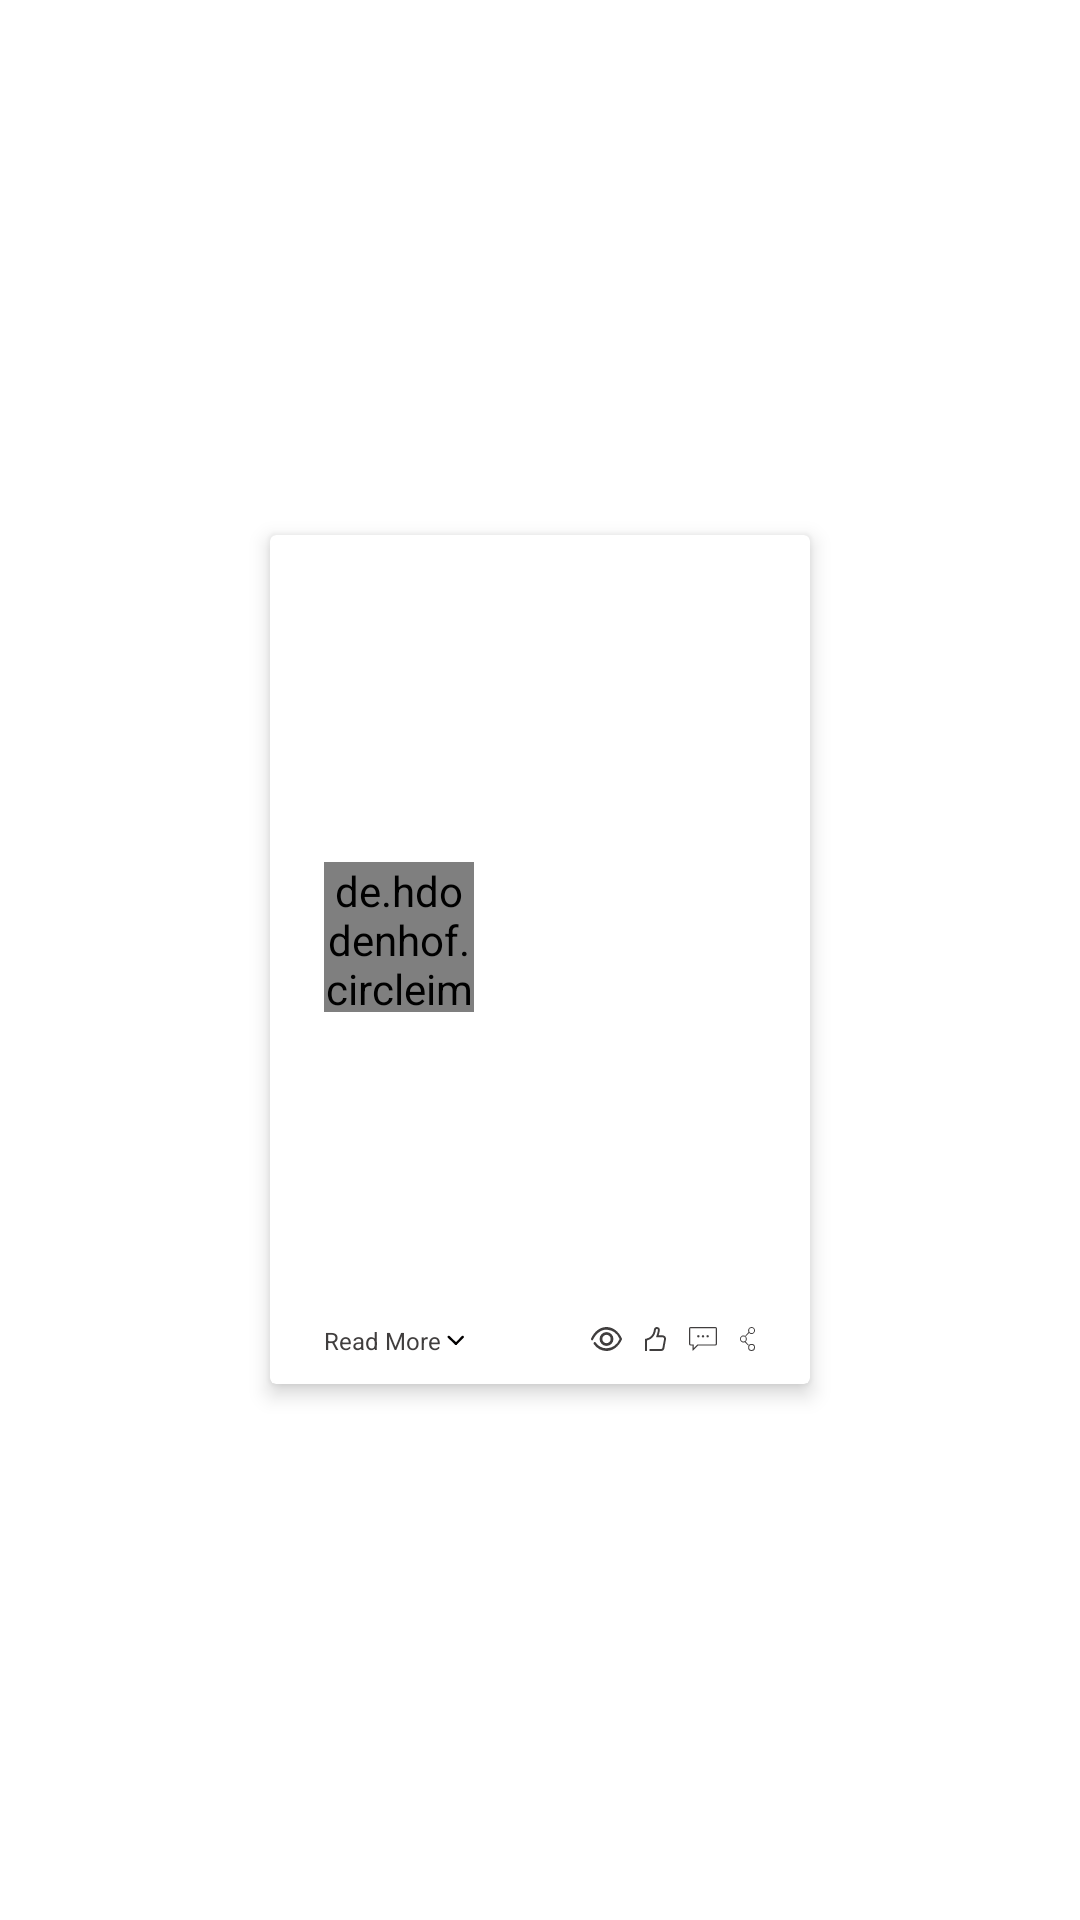

Screen size 1080x1920. Icon name, then its box in pixels as (x1, y1, x2, y2):
comment: (689, 1327, 717, 1351)
eye: (591, 1327, 622, 1351)
